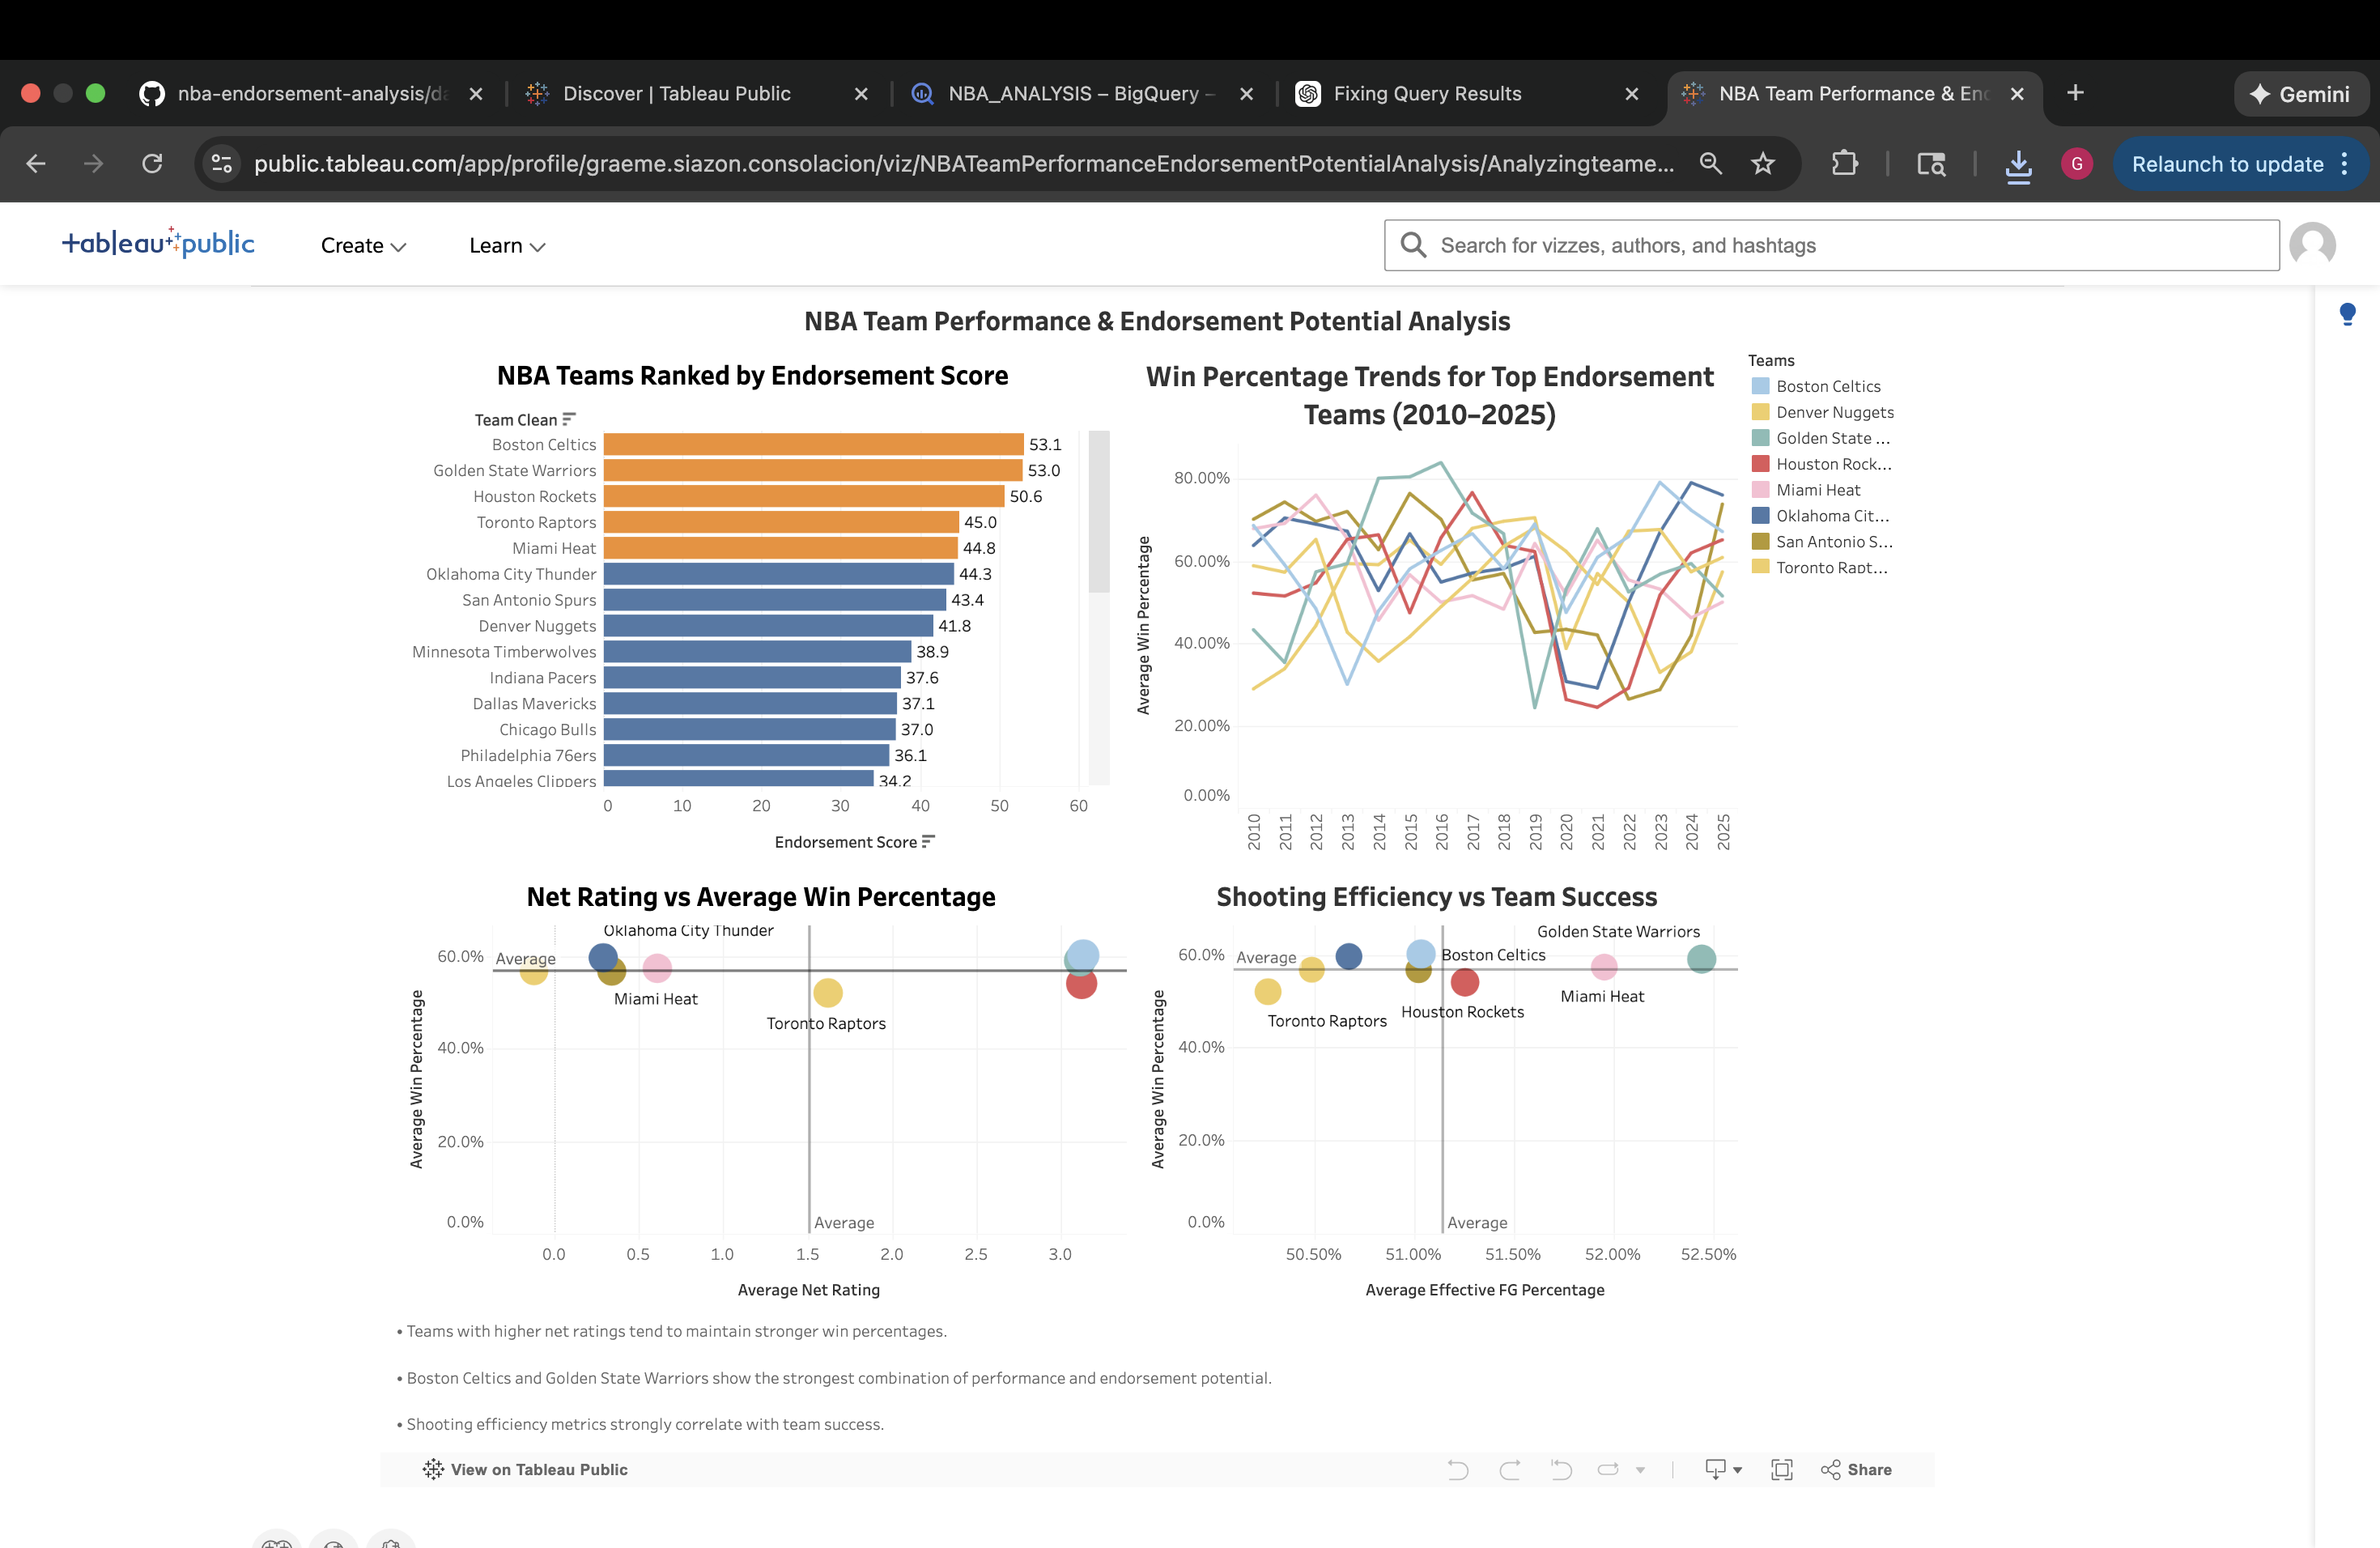

The dashboard page shown, as its layout file describes it:
{"tool":"tableau","page":{"name":"Analyzing team efficiency, winning performance, and endorsement potential.","canvas":[1200,900],"ordinal":0},"visuals":[{"type":"title","box":[8,8,1184,36]},{"type":"worksheet","title":"Top Teams by Endorsement Score","mark":"Bar","rows":["team_clean"],"cols":["endorsement_score"],"box":[8,44,561,401.9]},{"type":"worksheet","title":"Tracking team performance consistency across seasons","mark":"Line","rows":["win_pct"],"cols":["season_start"],"box":[569,44,483,401.9]},{"type":"legend","title":"Shooting Efficiency vs Team Success","param":"[federated.14pw7bc0vdmu5e19ef6h51v3mmhr].[none:team_clean:nk]","box":[1052,44,140,181]},{"type":"worksheet","title":"Net Rating vs Average Win Pct","mark":"Circle","rows":["win_pct"],"cols":["avg_net_rating"],"box":[8,445.9,571.9,346.3]},{"type":"worksheet","title":"Shooting Efficiency vs Team Success","mark":"Circle","rows":["win_pct"],"cols":["avg_effective_fg_pct (Team_Season_Analysis_Final.csv)"],"box":[579.9,445.9,472.1,346.3]},{"type":"text","box":[8,792.2,1184,99.8]}]}

Visuals, with their boxes on the page's 1200x900 design canvas (x1, y1, x2, y2). These are canvas units, not pixel positions in the 2380x1548 screenshot, which may show the page scaled, cropped or inside an application window:
title: l=8, t=8, r=1192, b=44
"Top Teams by Endorsement Score" worksheet (Bar marks): l=8, t=44, r=569, b=446
"Tracking team performance consistency across seasons" worksheet (Line marks): l=569, t=44, r=1052, b=446
"Shooting Efficiency vs Team Success" legend: l=1052, t=44, r=1192, b=225
"Net Rating vs Average Win Pct" worksheet (Circle marks): l=8, t=446, r=580, b=792
"Shooting Efficiency vs Team Success" worksheet (Circle marks): l=580, t=446, r=1052, b=792
text: l=8, t=792, r=1192, b=892
